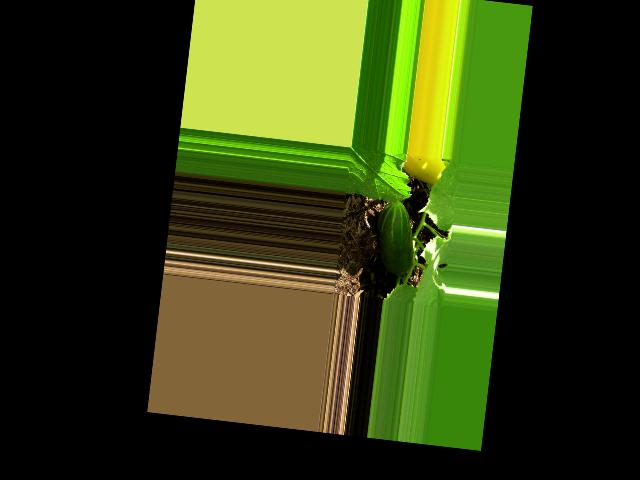cucumber: (370, 199, 419, 277)
